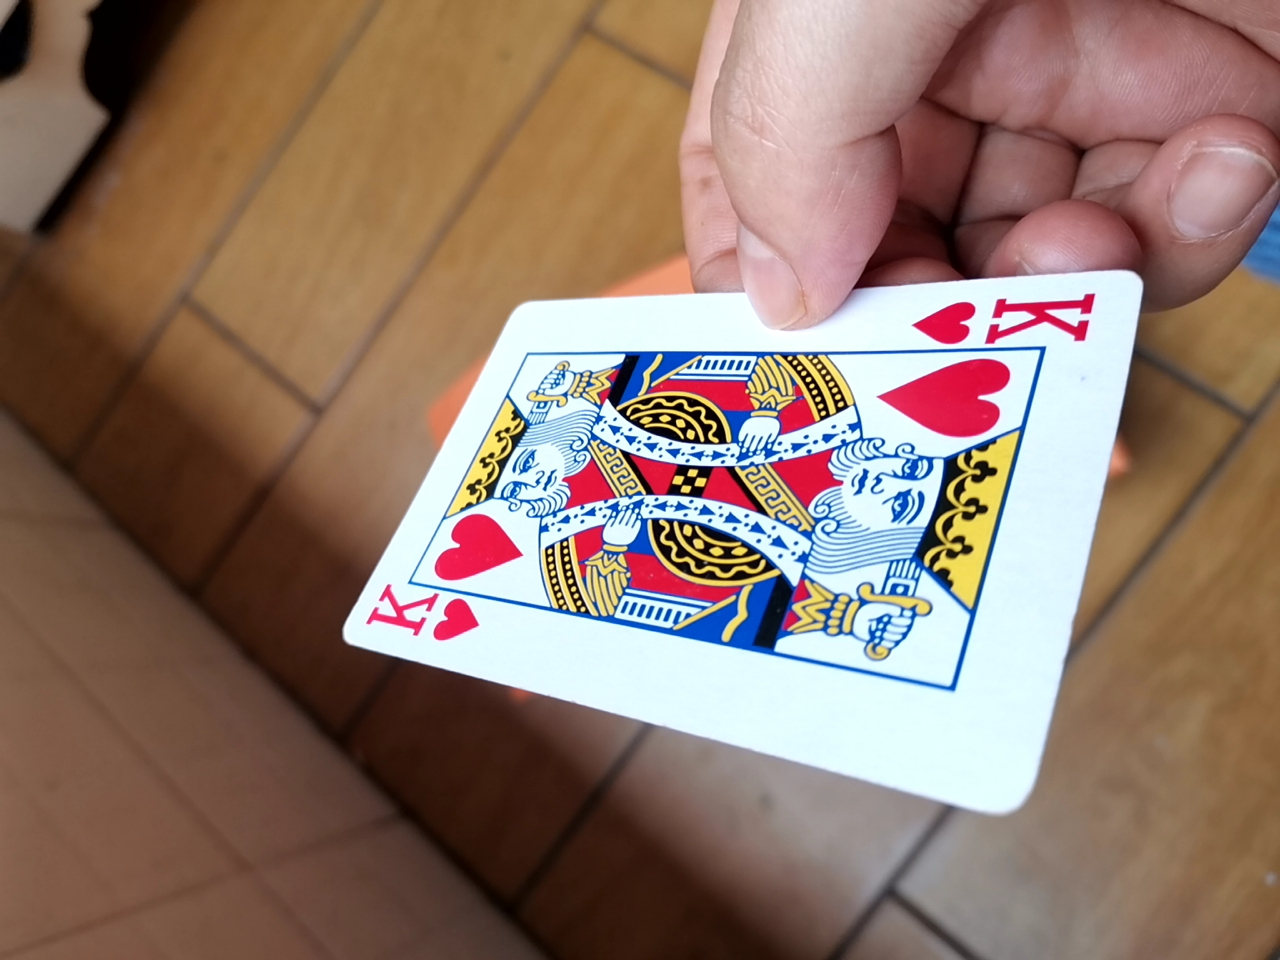hx k: (327, 260, 1135, 821)
